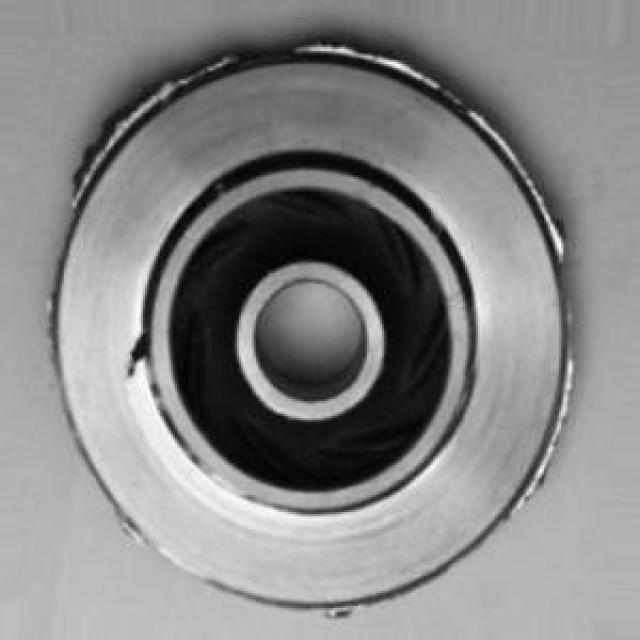Defect: (79, 113, 149, 150), (114, 327, 155, 388)
